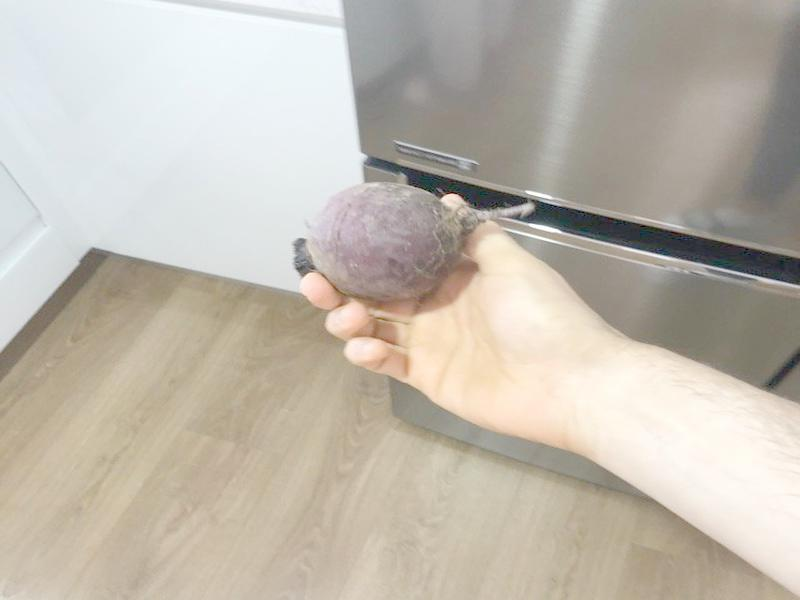Beet: (290, 184, 530, 297)
